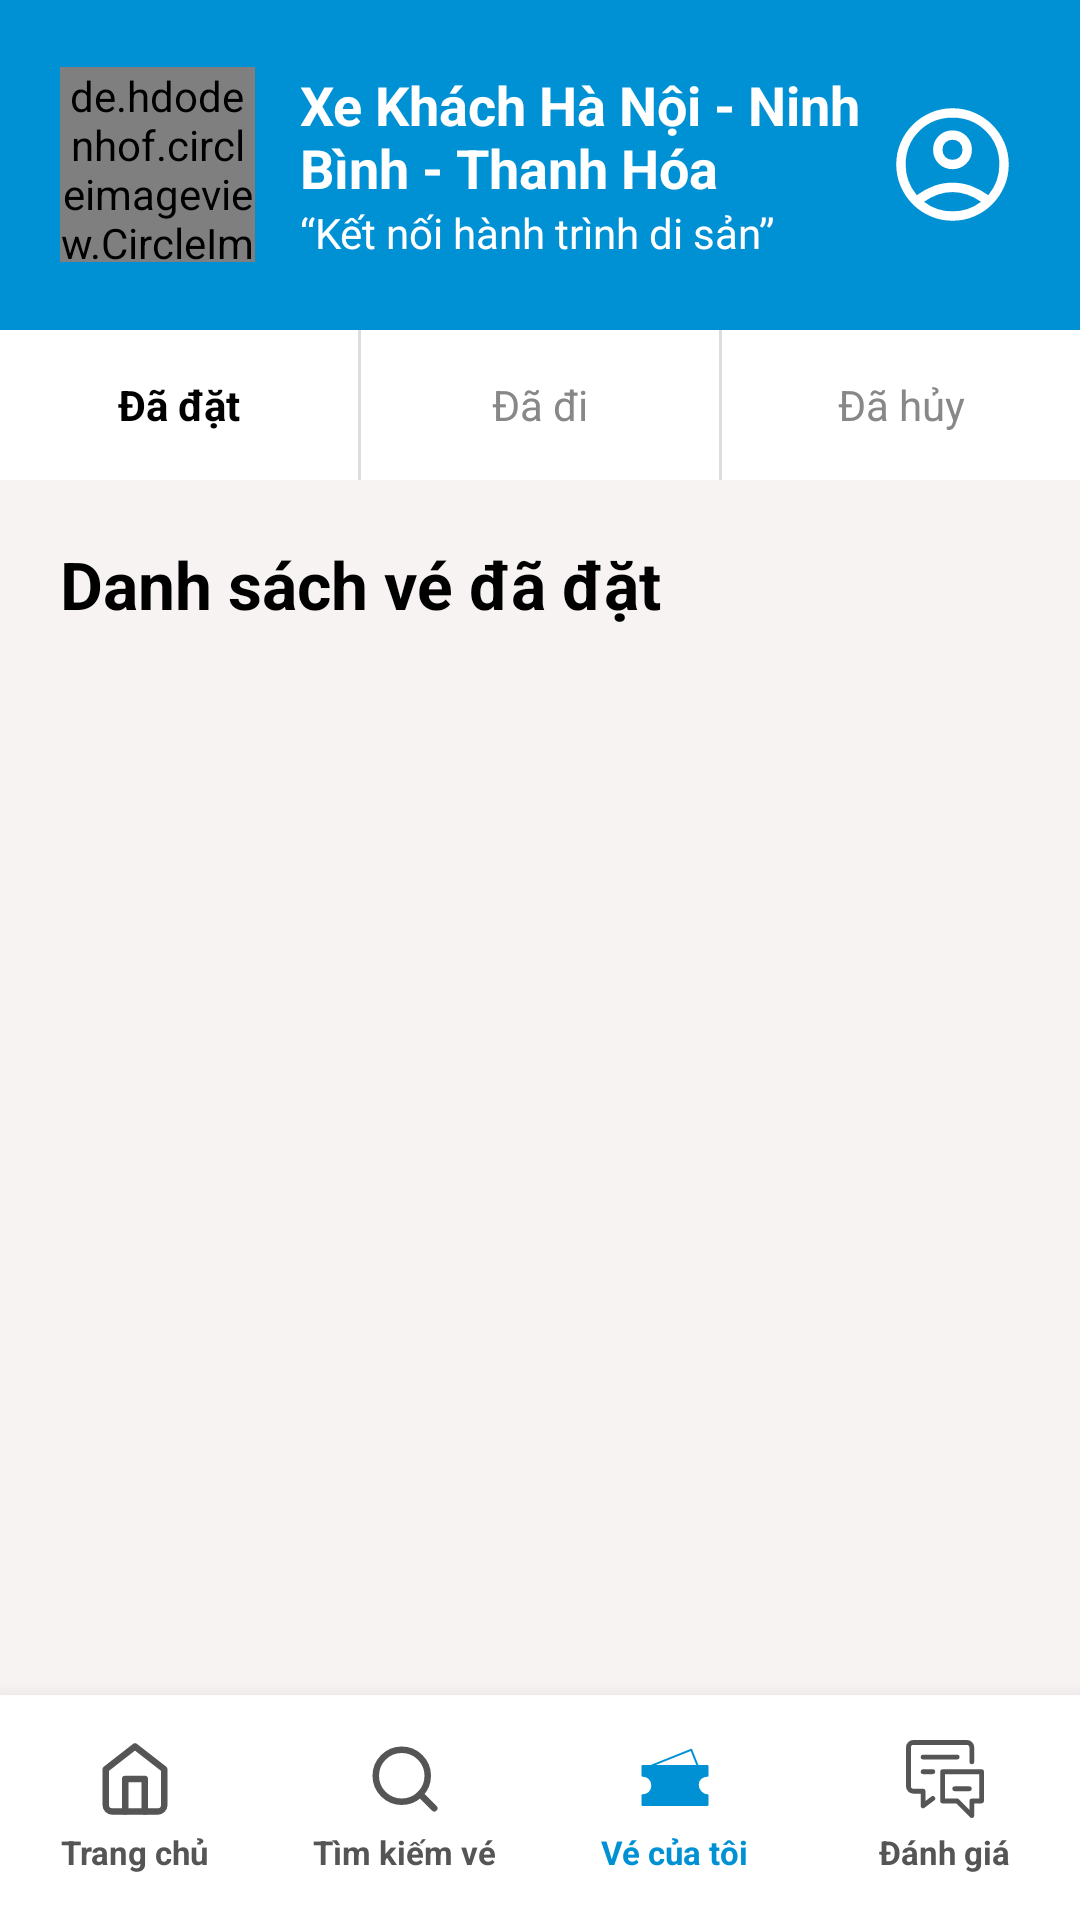

Point at icon controls on the screen. Image size 1080 x 1920, points as (x,y).
user: (952,164)
